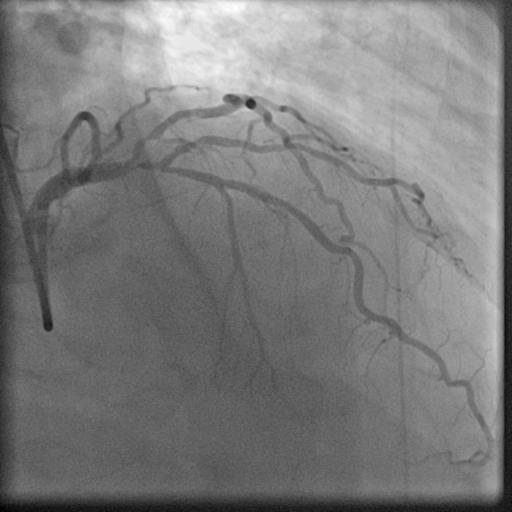Stenosis: (134, 129, 152, 152)
